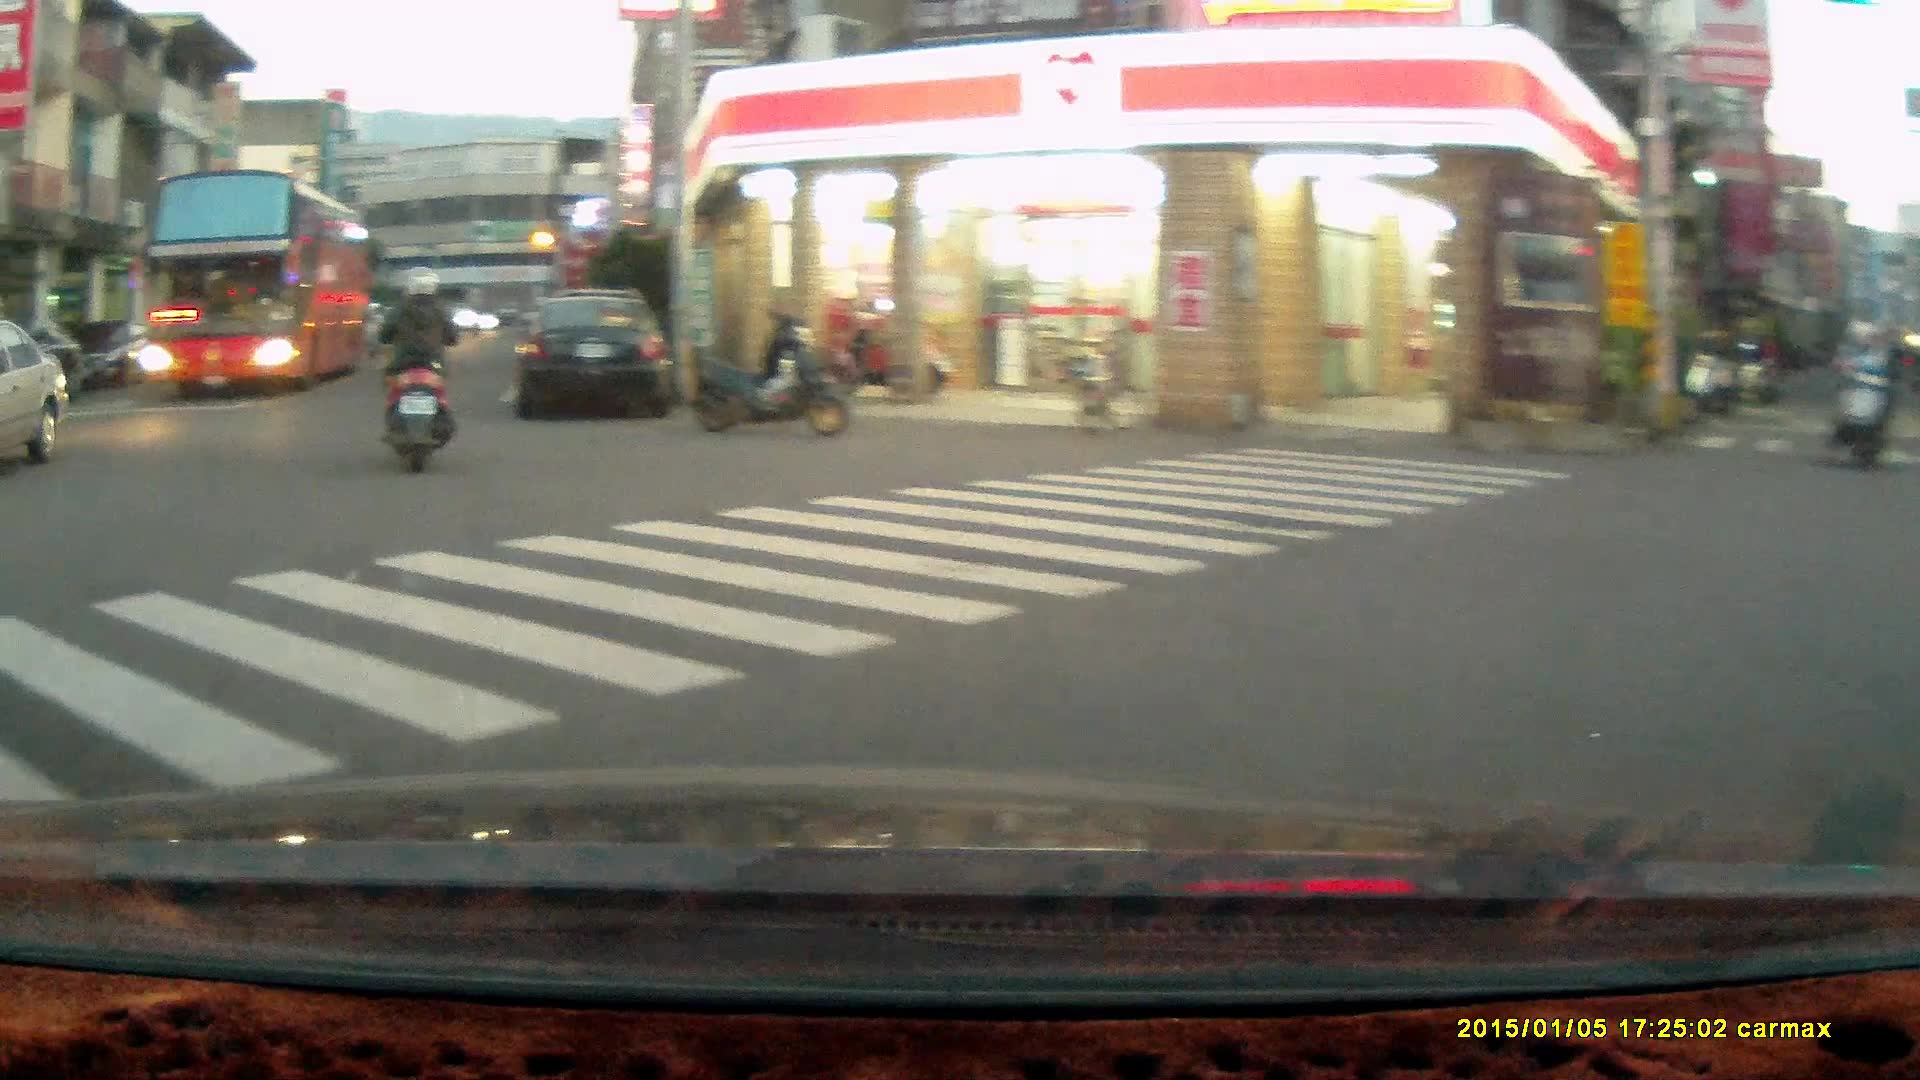rider: (372, 261, 467, 473), (1825, 316, 1896, 473)
vehicle: (142, 165, 384, 395), (512, 289, 678, 419)
